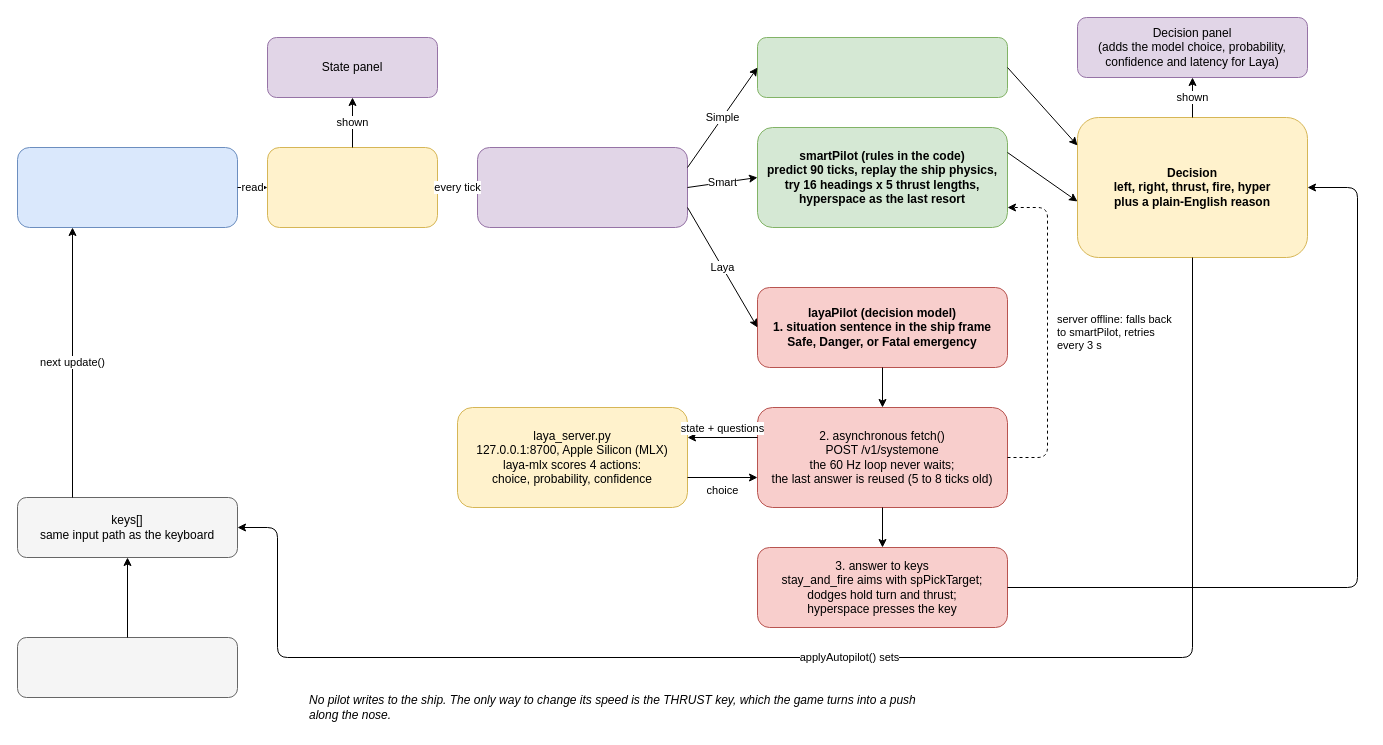
The diagram is 1383 pixels wide and 745 high, and some of its shapes have lost their labels. Each missing label, with the box of its shape:
Controller selector Manual, Simple, Smart, Laya: (476, 146, 688, 228)
Game logic update(), 60 Hz ship, rocks, saucer, torpedoes: (16, 146, 238, 228)
Keyboard (human) Manual mode: (16, 636, 238, 698)
simplePilot (v2) intercept time per target, turn, fire: (756, 36, 1008, 98)
snapshot() the state as plain data: (266, 146, 438, 228)
